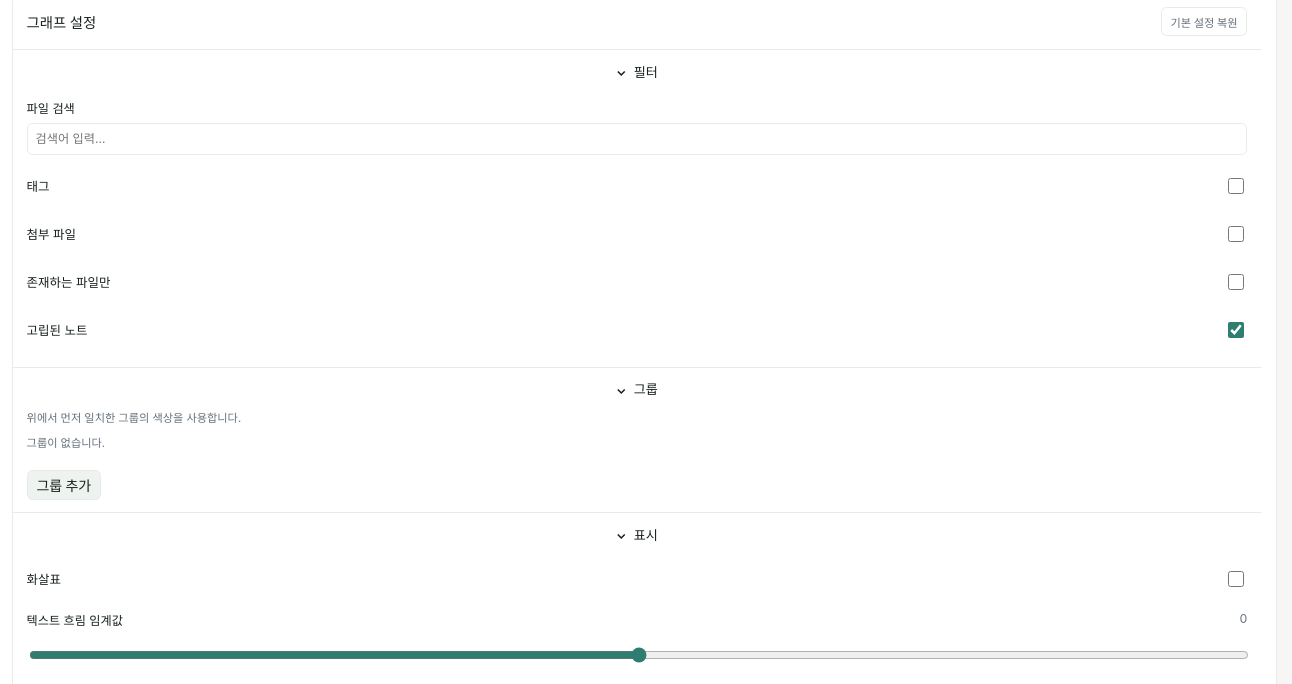
Test: GraphSettingsDrawer › updates filters, display ranges and restores scope defaults
This screenshot has width=1292, height=684.
Type "tag:#work" into the search field labelled "파일 검색" at (637,139), box left=27, top=123, right=1247, bottom=155
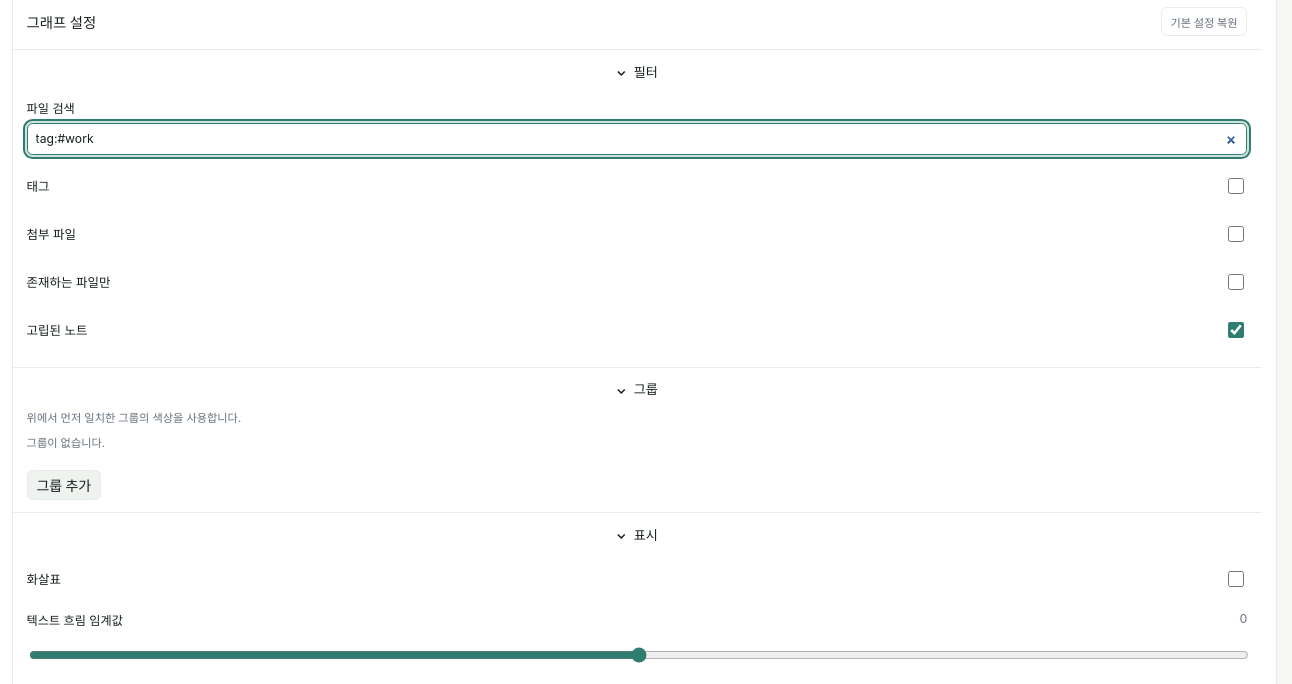
Click the checkbox labelled "태그" at (1236,186), box left=1228, top=165, right=1244, bottom=207
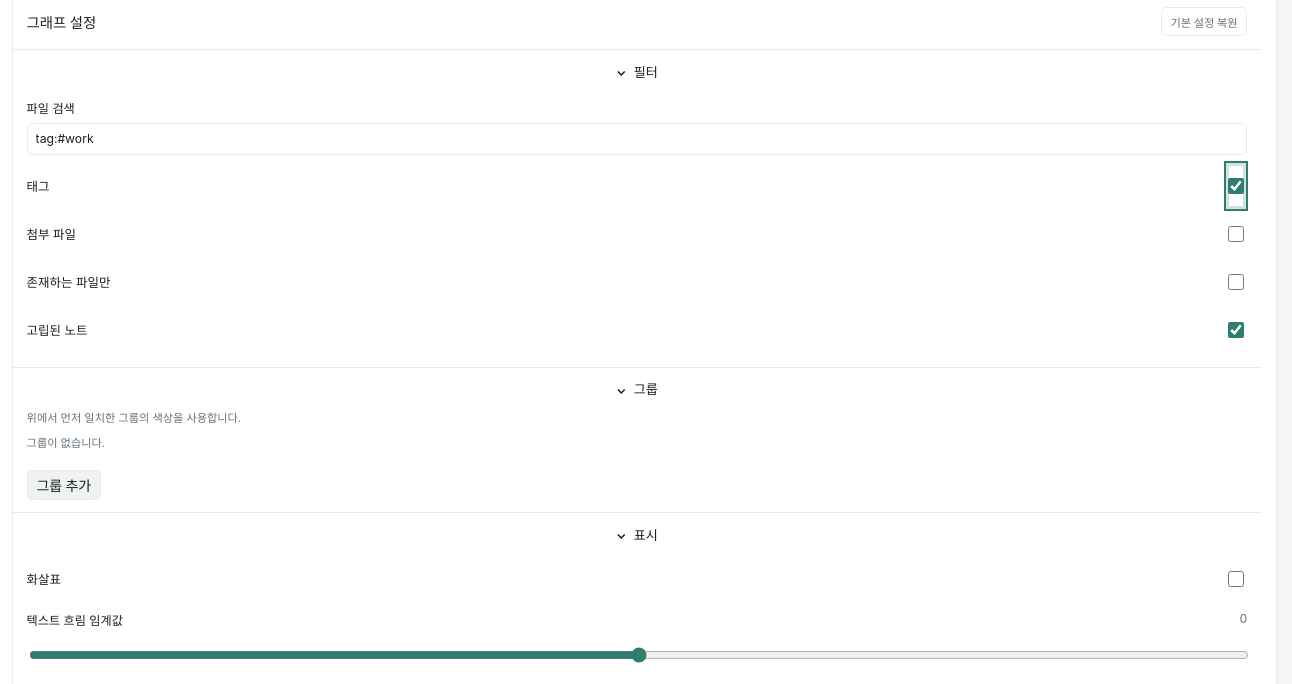
Click the checkbox labelled "화살표" at (1236,579), box left=1228, top=558, right=1244, bottom=600
(page scrolled)
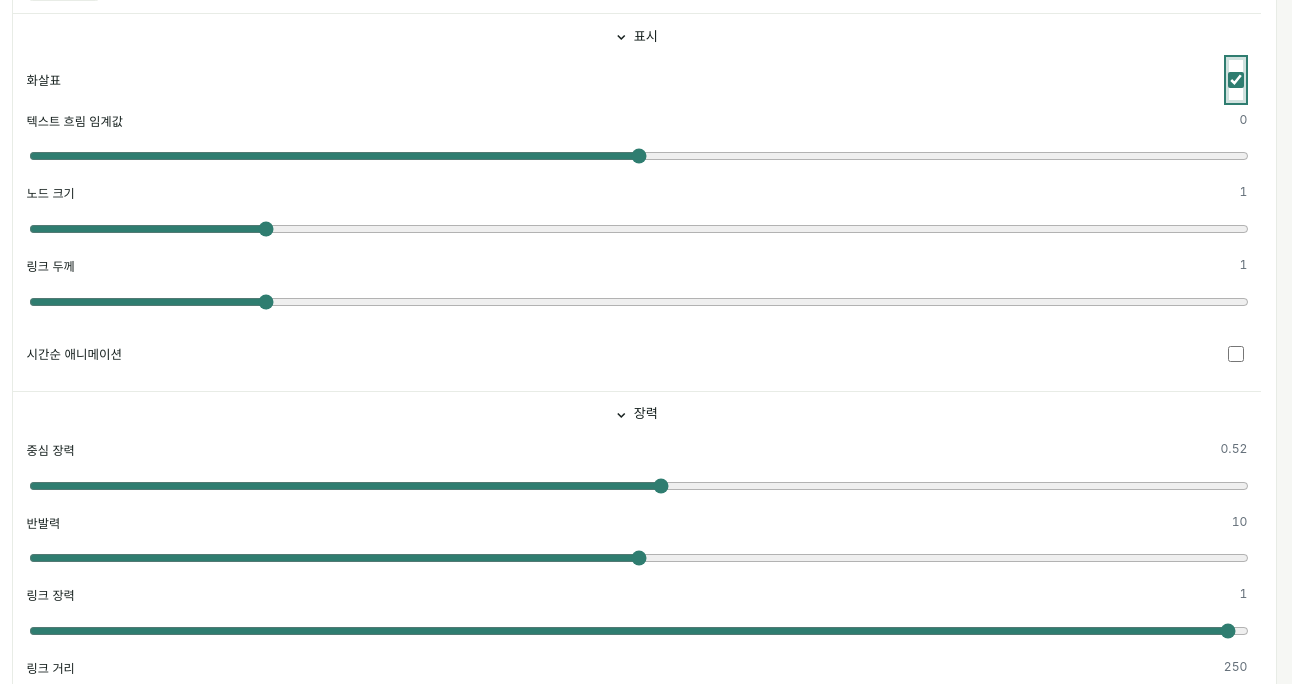
Click the checkbox labelled "시간순 애니메이션" at (1236,354), box left=1228, top=333, right=1244, bottom=375
(page scrolled)
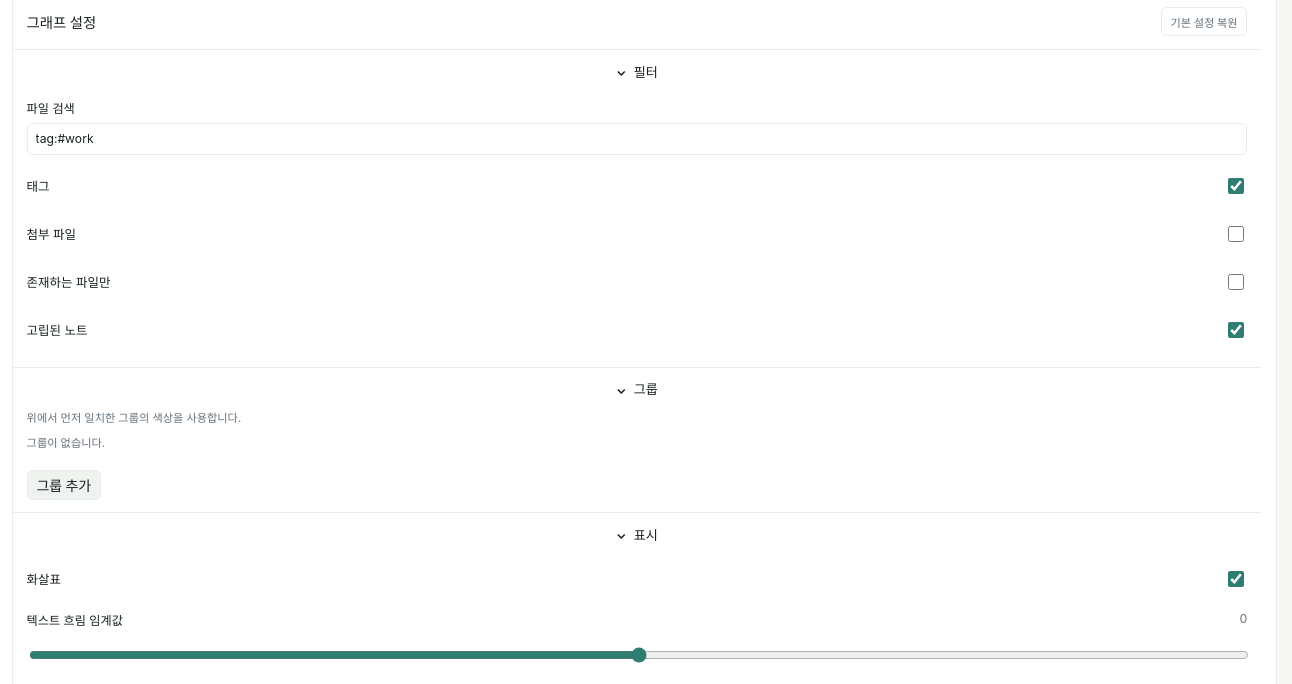
Click the button "기본 설정 복원" at (1204,22), box left=1161, top=7, right=1248, bottom=36
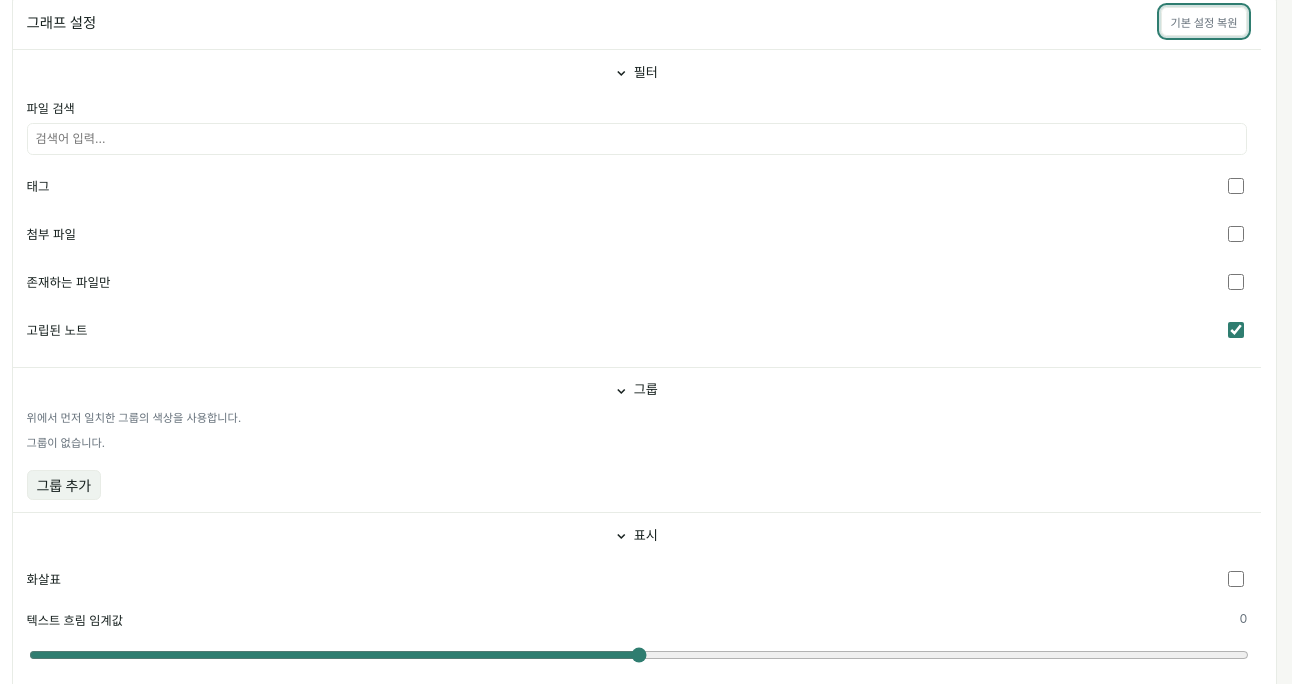
Check: the checkbox labelled "태그" is not checked, box left=1228, top=165, right=1244, bottom=207
Check: the checkbox labelled "화살표" is not checked, box left=1228, top=558, right=1244, bottom=600
Check: the search field labelled "파일 검색" is empty, box left=27, top=123, right=1247, bottom=155
